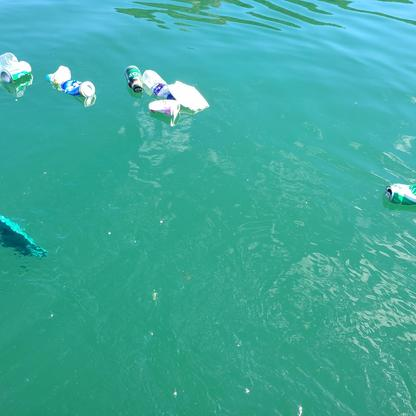can: (384, 179, 416, 206), (61, 79, 94, 98), (3, 60, 31, 81), (147, 98, 180, 114)
foam: (168, 80, 211, 111)
plastic bottle: (142, 67, 170, 98), (123, 65, 141, 91)
